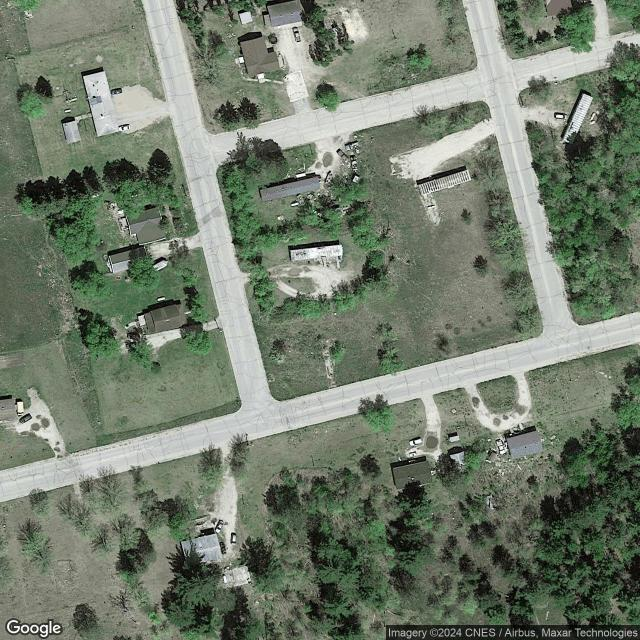Propane: (588, 111, 596, 122), (155, 295, 166, 302), (63, 107, 73, 114), (222, 573, 228, 584), (427, 204, 436, 210), (290, 201, 299, 207)
